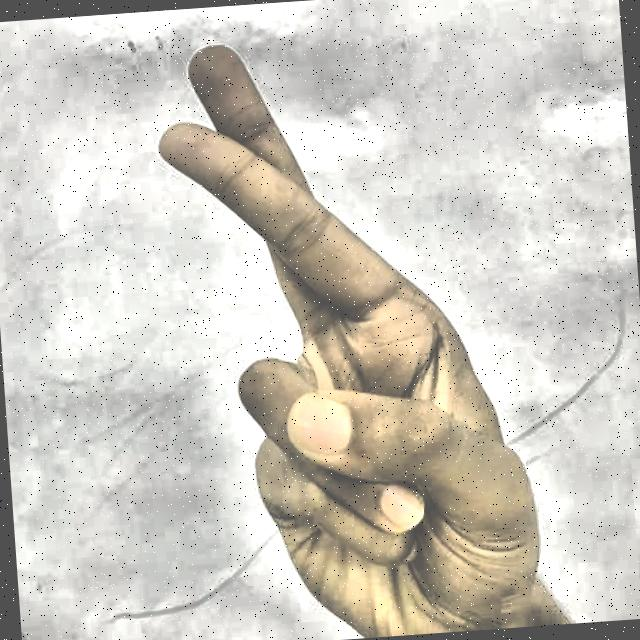Ra: (102, 3, 573, 640)
